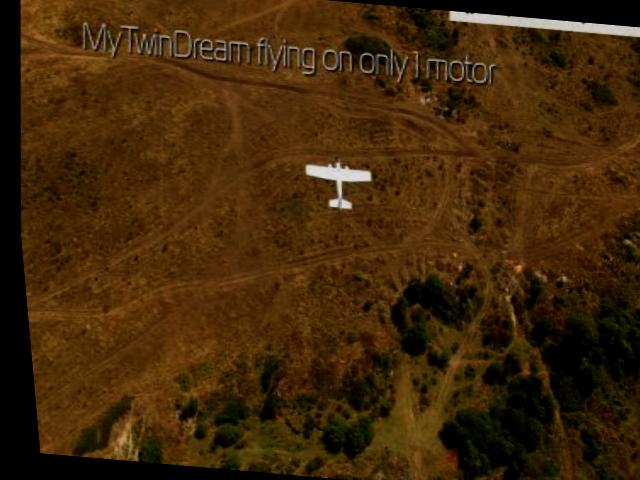uav: (290, 143, 377, 220)
